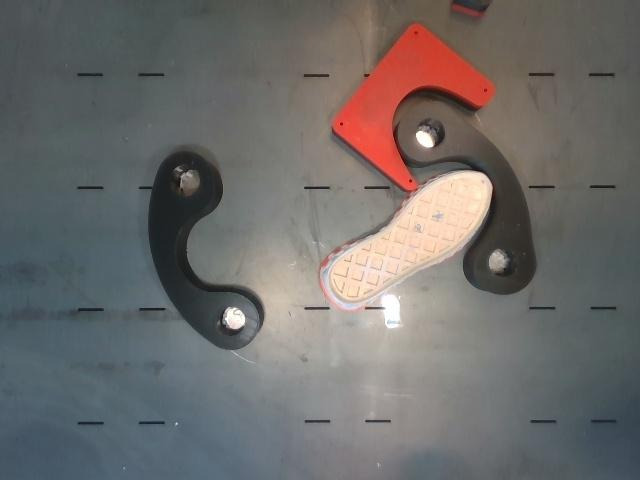shoes: (328, 172, 491, 303)
